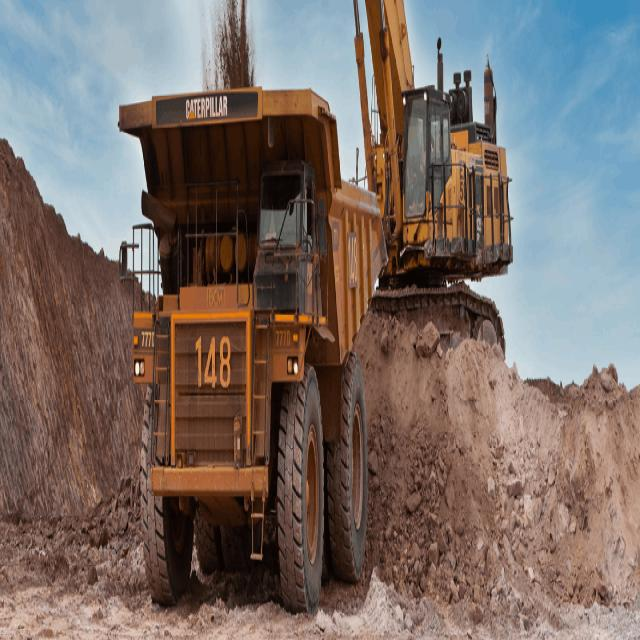dump_truck: (108, 65, 384, 609)
